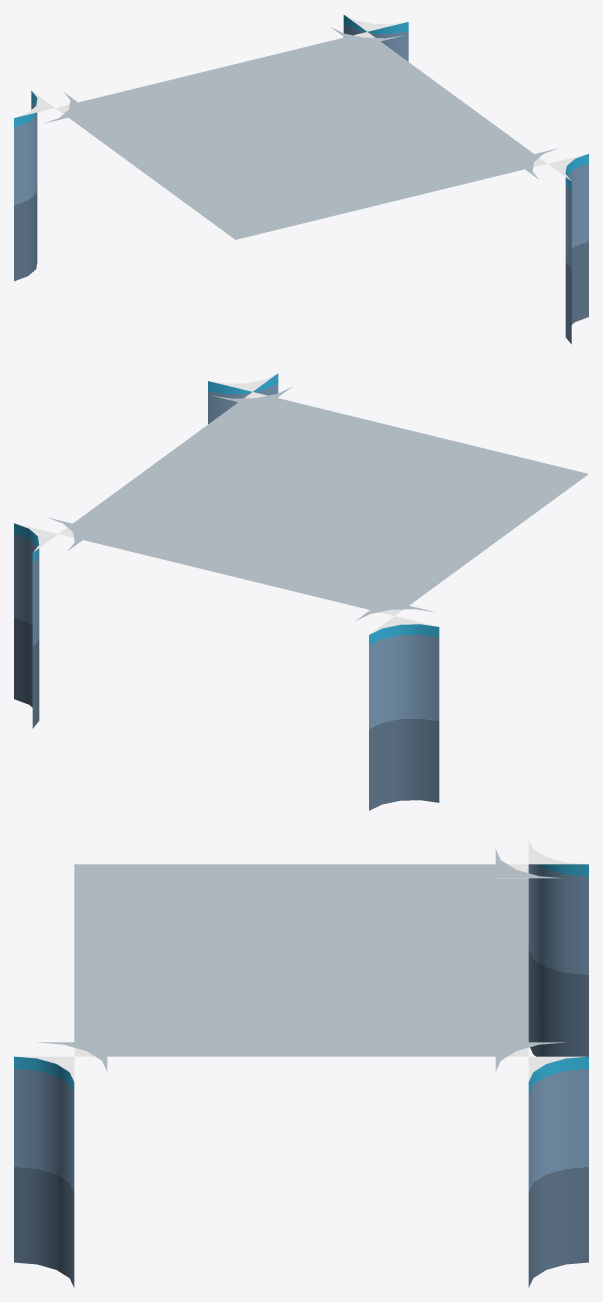
File: TileFace1111Corner0010.fbx
The picture shows the model from 3 angles, top to bottom: view 1: azimuth 30°, elevation 25°; view 2: azimuth 150°, elevation 25°; view 3: azimuth 270°, elevation 25°; orthographic projection. The views are drawn at different scales.
Visible parts, largest first — view 1: Face1111Corner0010v1_; view 2: Face1111Corner0010v1_; view 3: Face1111Corner0010v1_.
Part boxes in pixels (x1=…): Face1111Corner0010v1_: x1=14, y1=15, x2=588, y2=344; Face1111Corner0010v1_: x1=14, y1=373, x2=588, y2=810; Face1111Corner0010v1_: x1=14, y1=839, x2=588, y2=1287.
Size of the model in its own units: 126 by 50.01 by 126.
